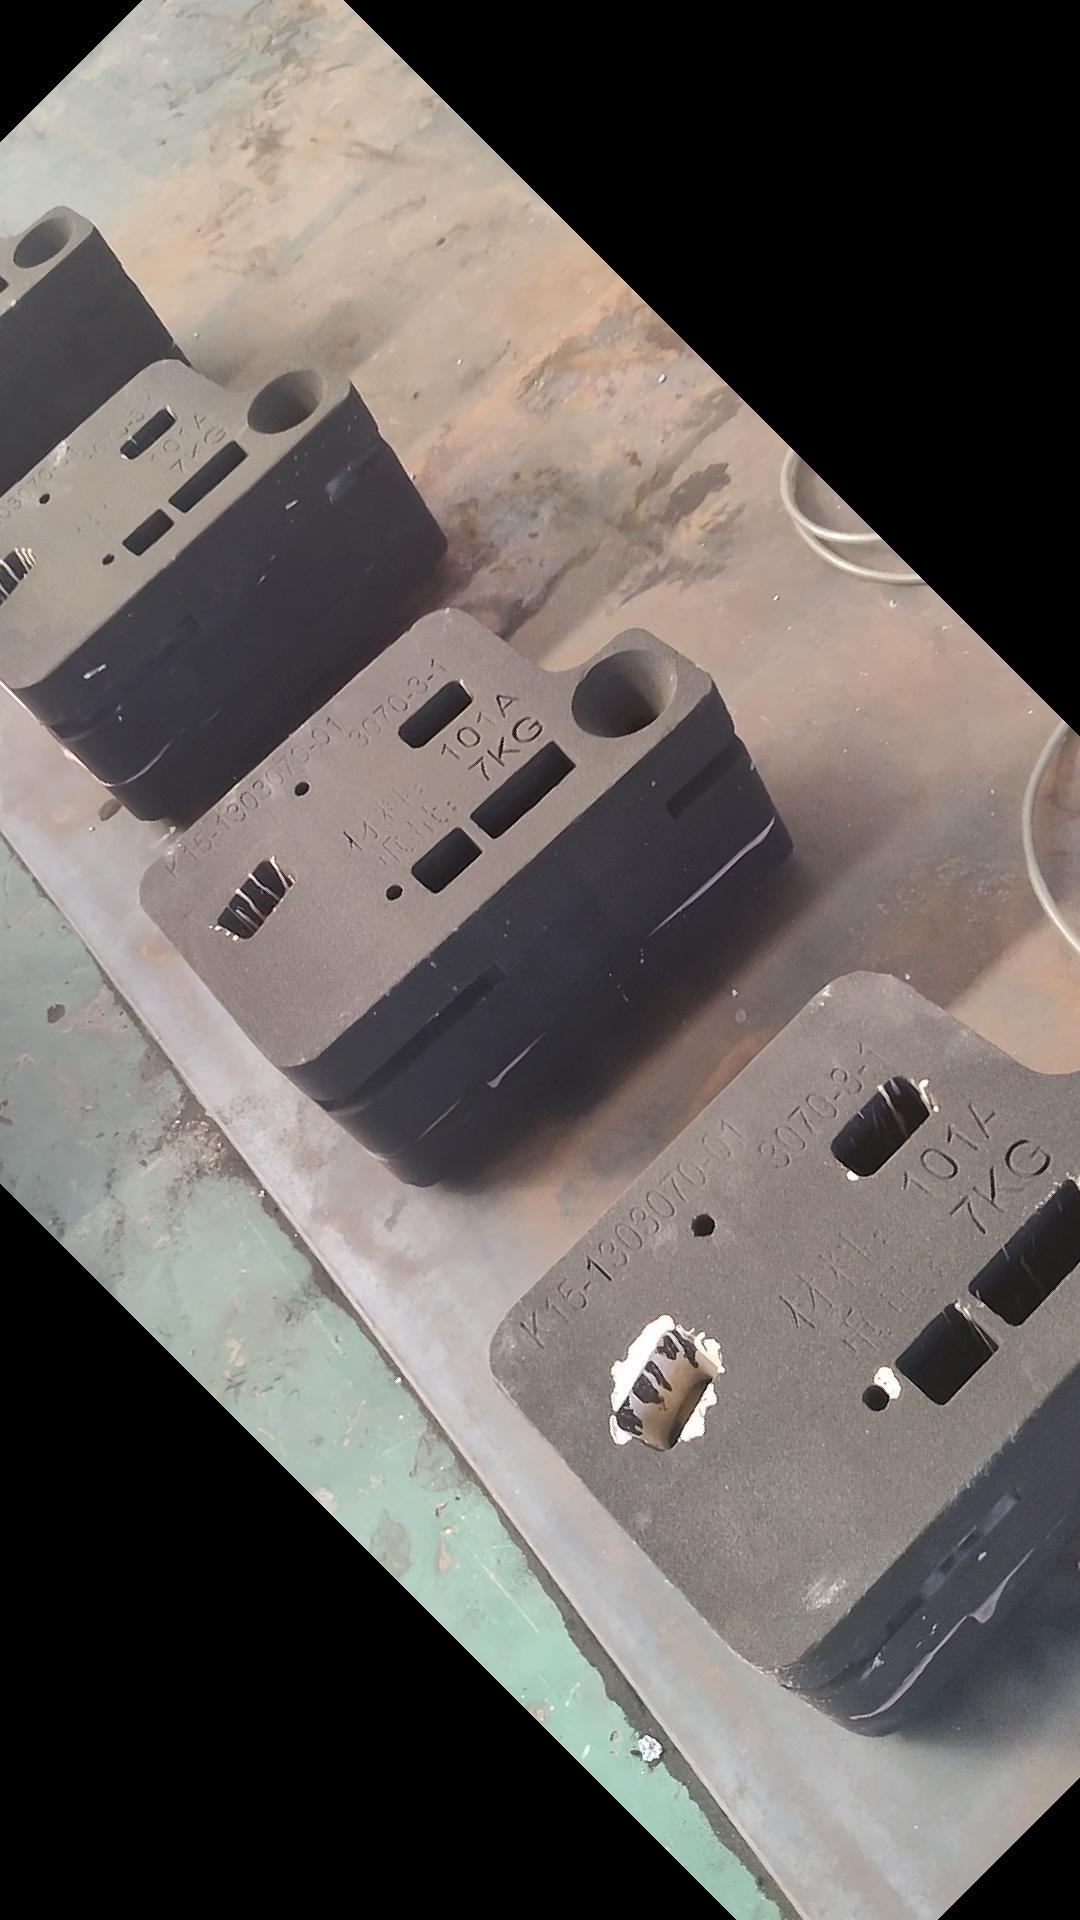pouring hole: (571, 647, 676, 738), (247, 369, 324, 435), (12, 214, 71, 268)
